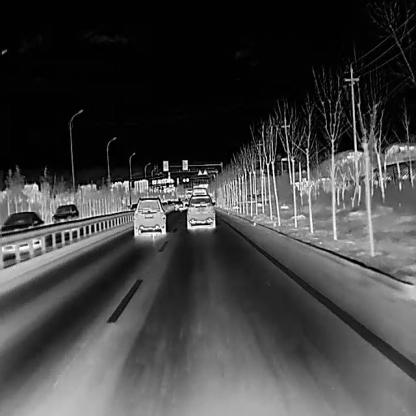car: (0, 209, 46, 254), (132, 194, 166, 236), (184, 192, 215, 228), (50, 204, 82, 233), (174, 198, 184, 210)
